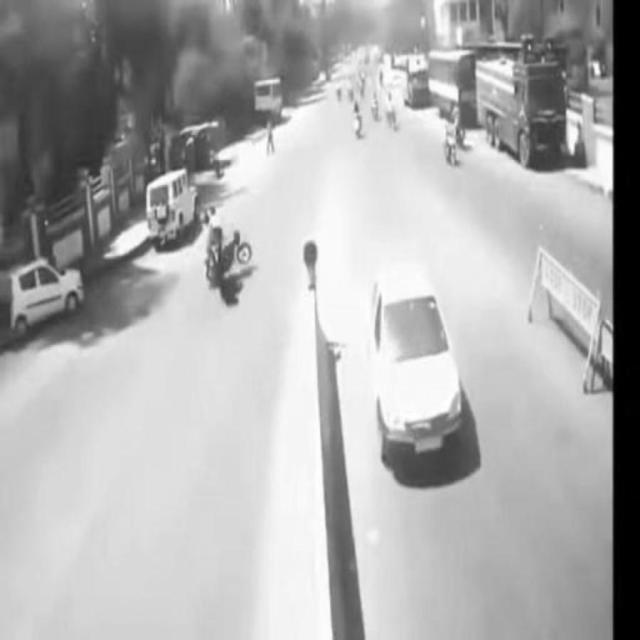accident: (196, 205, 252, 307)
vehicle: (375, 271, 467, 465), (471, 54, 564, 167), (10, 260, 83, 328), (143, 170, 200, 238)
